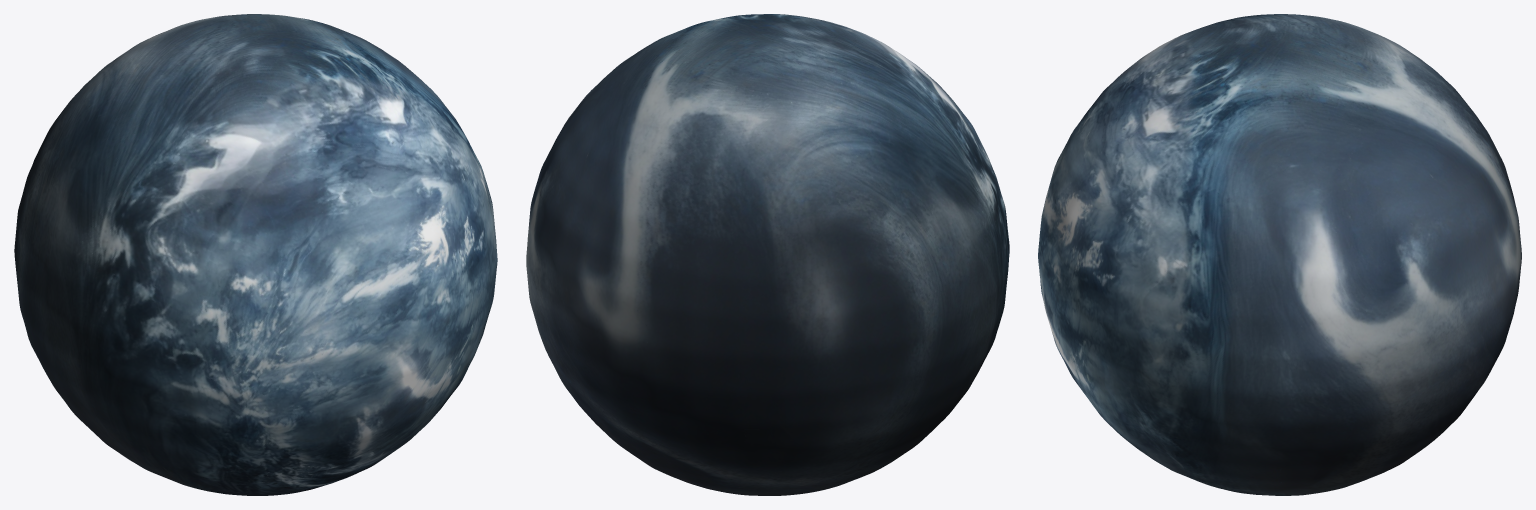
Rendered from HAT_P_11_b_0919231646.glb.
3 views of the same model, side by side, from view 1: azimuth 30°, elevation 25°; view 2: azimuth 150°, elevation 25°; view 3: azimuth 270°, elevation 25° (orthographic).
Bounding box in the file's own units: 1.92 × 1.91 × 1.92.
1 material, 1 textured.
